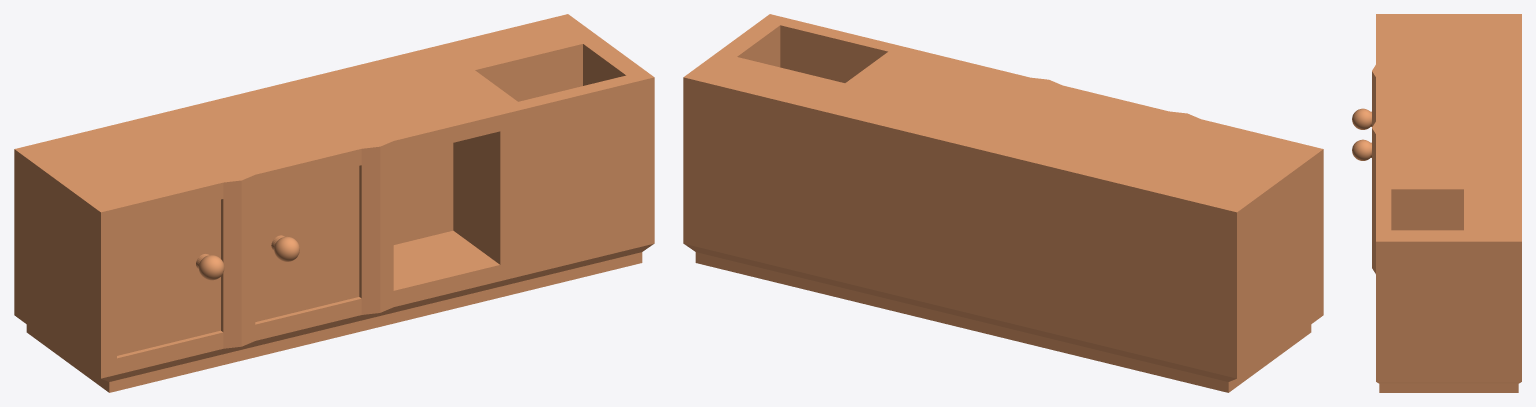
Rendered from shuichizhuozi.fbx.
The picture shows the model from 3 angles, left to right: view 1: azimuth 30°, elevation 25°; view 2: azimuth 150°, elevation 25°; view 3: azimuth 270°, elevation 25°; orthographic projection. The views are drawn at different scales.
Visible parts, largest first — view 1: 台子1; view 2: 台子1; view 3: 台子1.
Part boxes in pixels (x1,y1,x2,y2): 台子1: [14, 14, 654, 392]; 台子1: [683, 14, 1323, 392]; 台子1: [1352, 14, 1521, 392].
Size of the model in its own units: 37.88 by 12.06 by 11.94.
